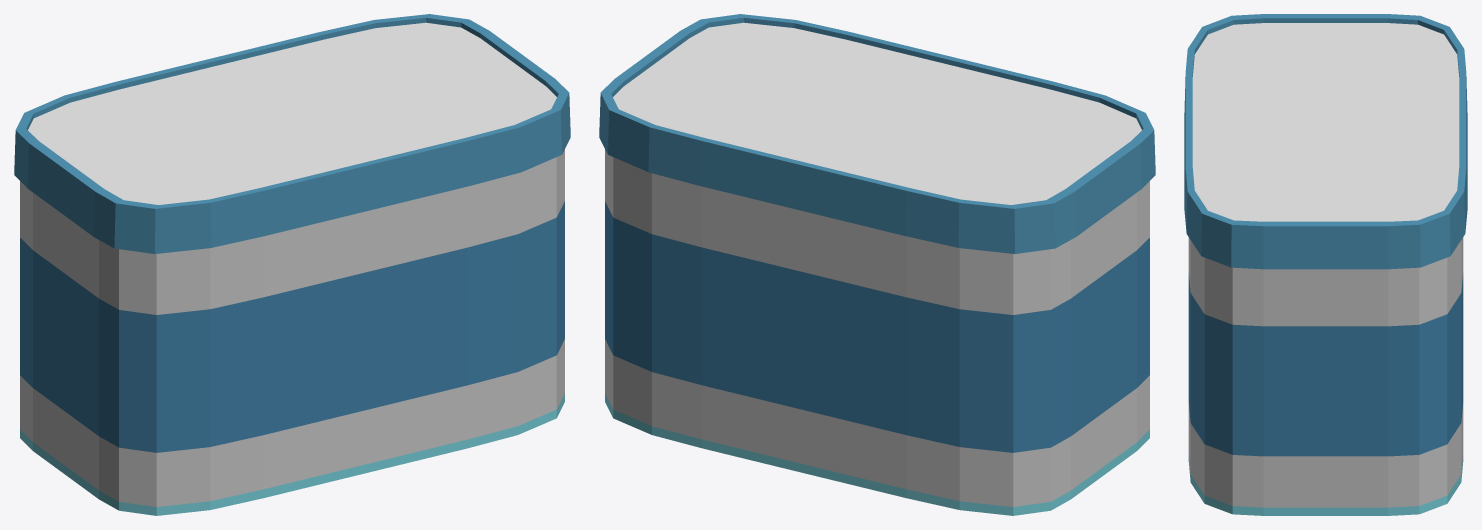
File: Vanilla Ice Cream Container.fbx
The picture shows the model from 3 angles, left to right: view 1: azimuth 30°, elevation 25°; view 2: azimuth 150°, elevation 25°; view 3: azimuth 270°, elevation 25°; orthographic projection. The views are drawn at different scales.
Visible parts, largest first — view 1: Vanilla Ice Cream Container; view 2: Vanilla Ice Cream Container; view 3: Vanilla Ice Cream Container.
Part boxes in pixels (left/top/right/bottom): Vanilla Ice Cream Container: left=14, top=14, right=570, bottom=515; Vanilla Ice Cream Container: left=599, top=14, right=1155, bottom=515; Vanilla Ice Cream Container: left=1184, top=14, right=1467, bottom=515.
Size of the model in its own units: 42.76 by 27.21 by 23.95.
1 material, 1 textured.
